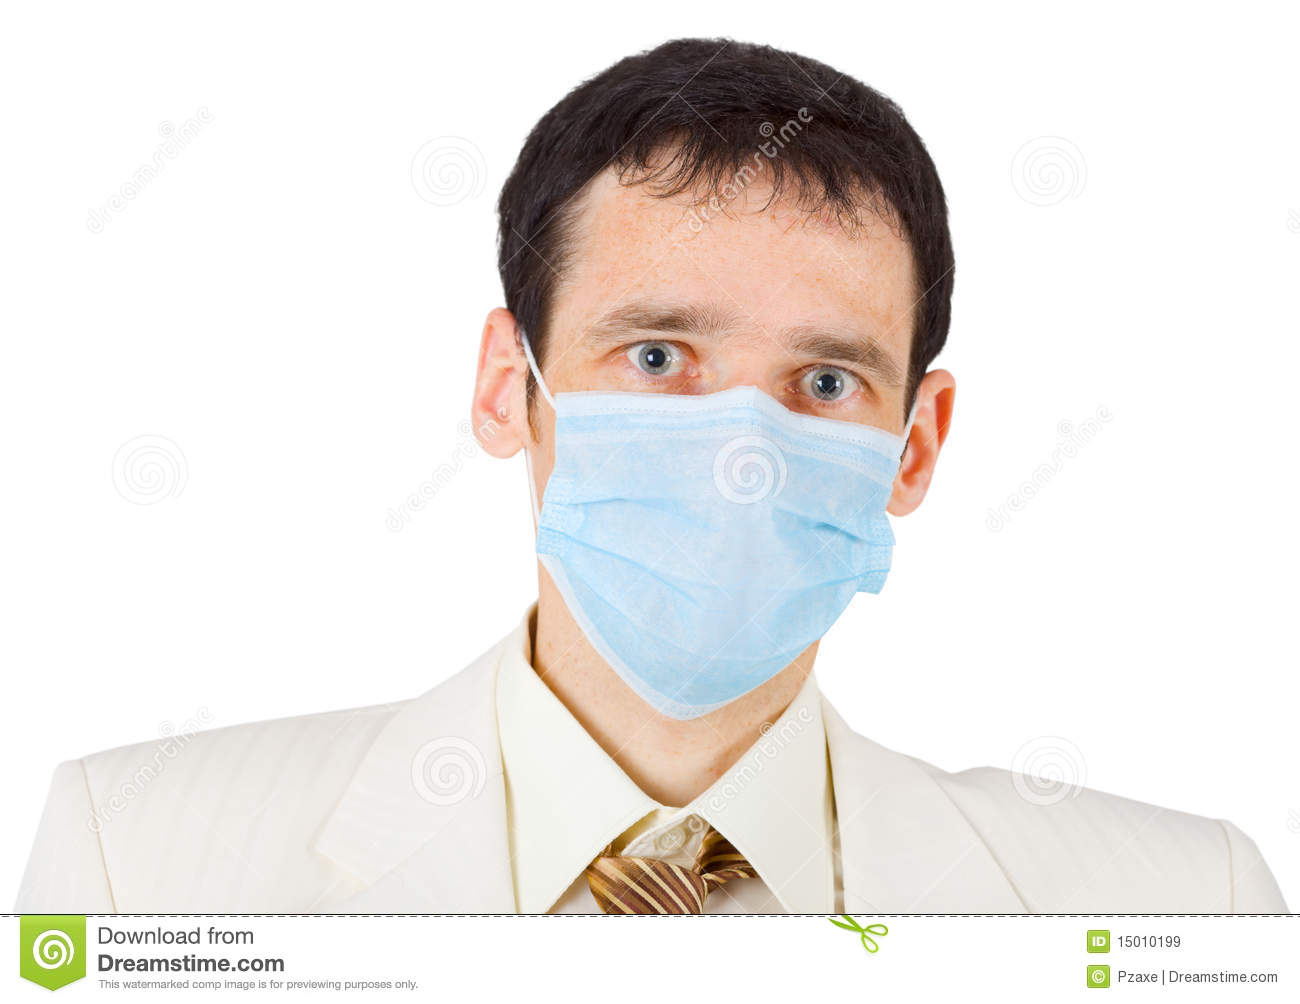mask: (540, 383, 901, 715)
